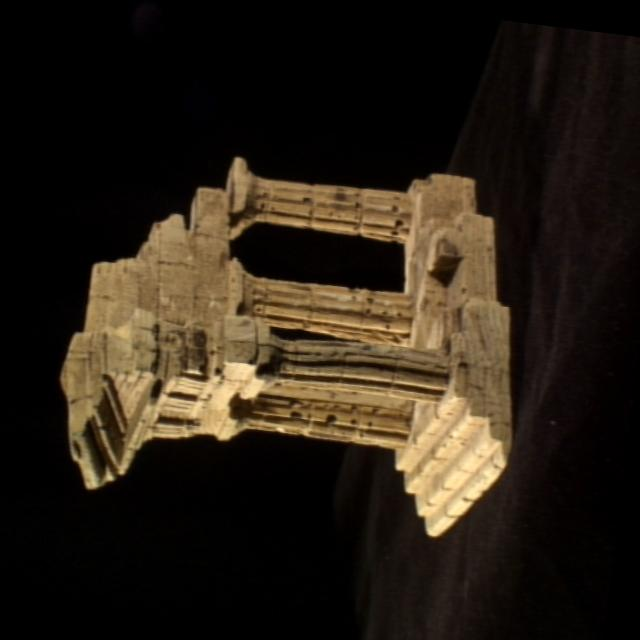Instance-Segmentation: (62, 158, 512, 537)
